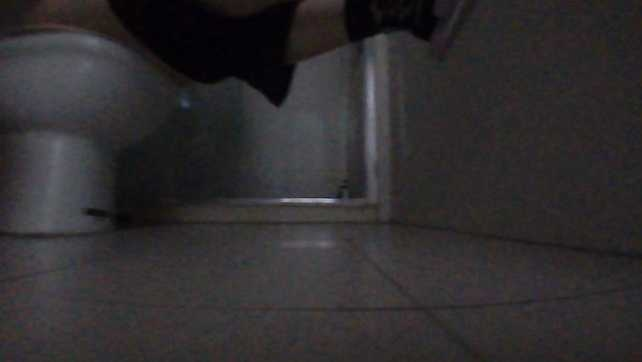toilet: (1, 25, 189, 237)
